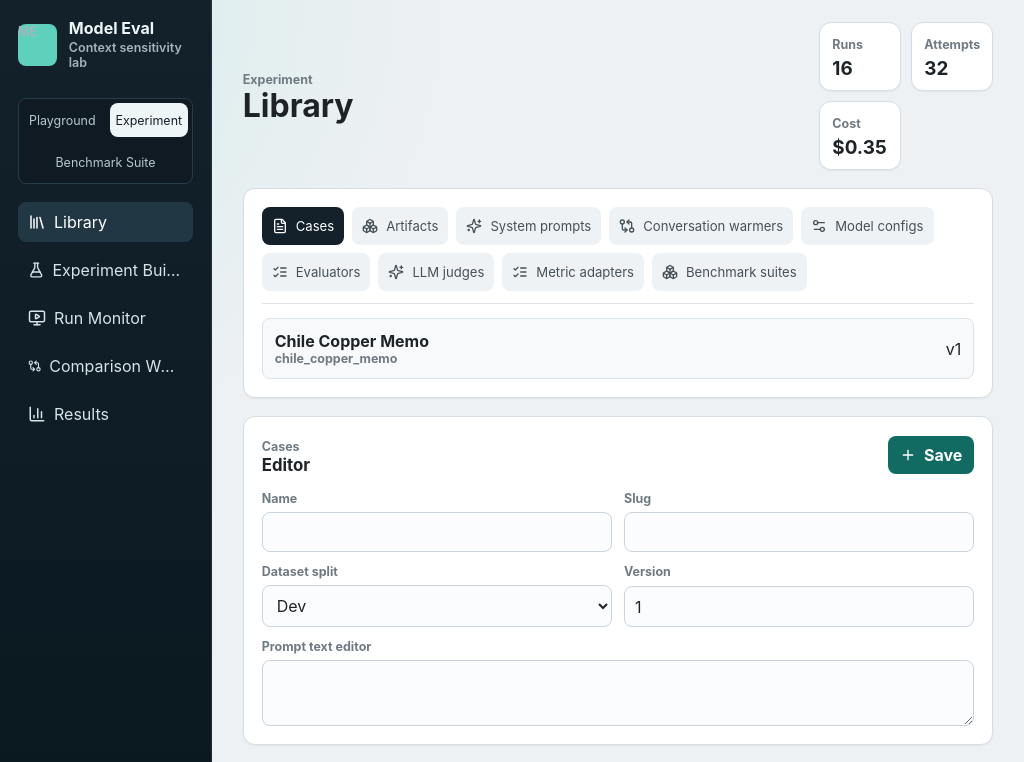
App run monitor › opens an API experiment from the monitor in the review workspace
This screenshot has width=1024, height=762.
Click the button "Run Monitor" at (106, 318), box [18,298,193,338]
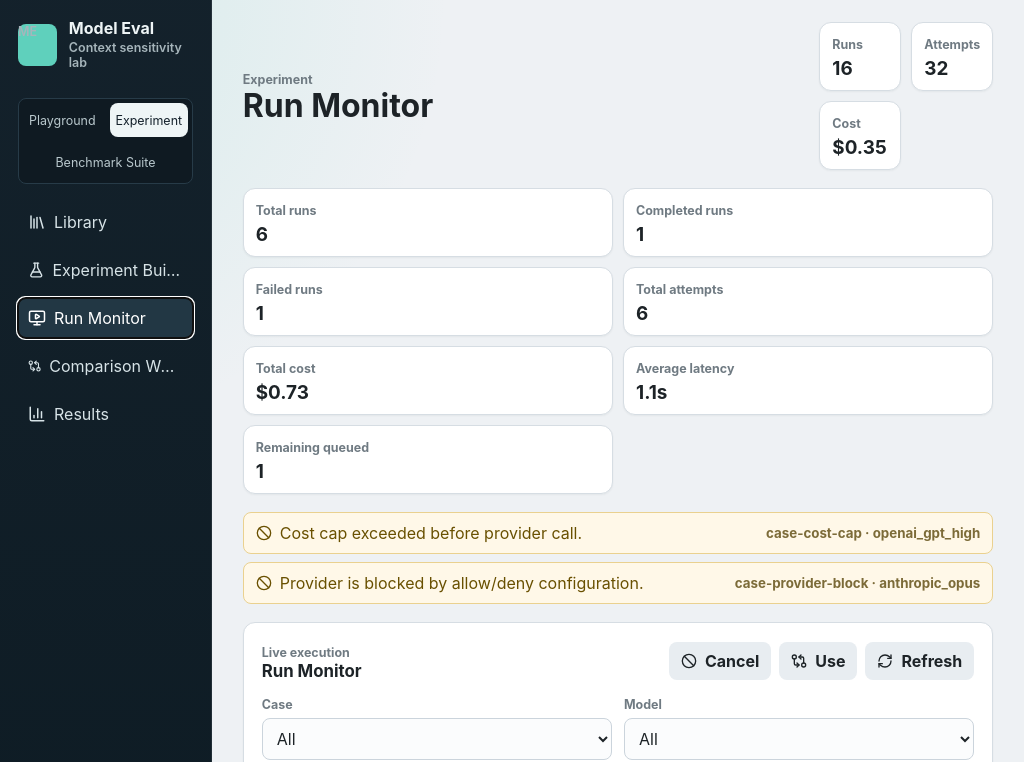
Click the button with aria-label "Use Copper monitor for review and results" at (818, 661), box [779,642,858,680]
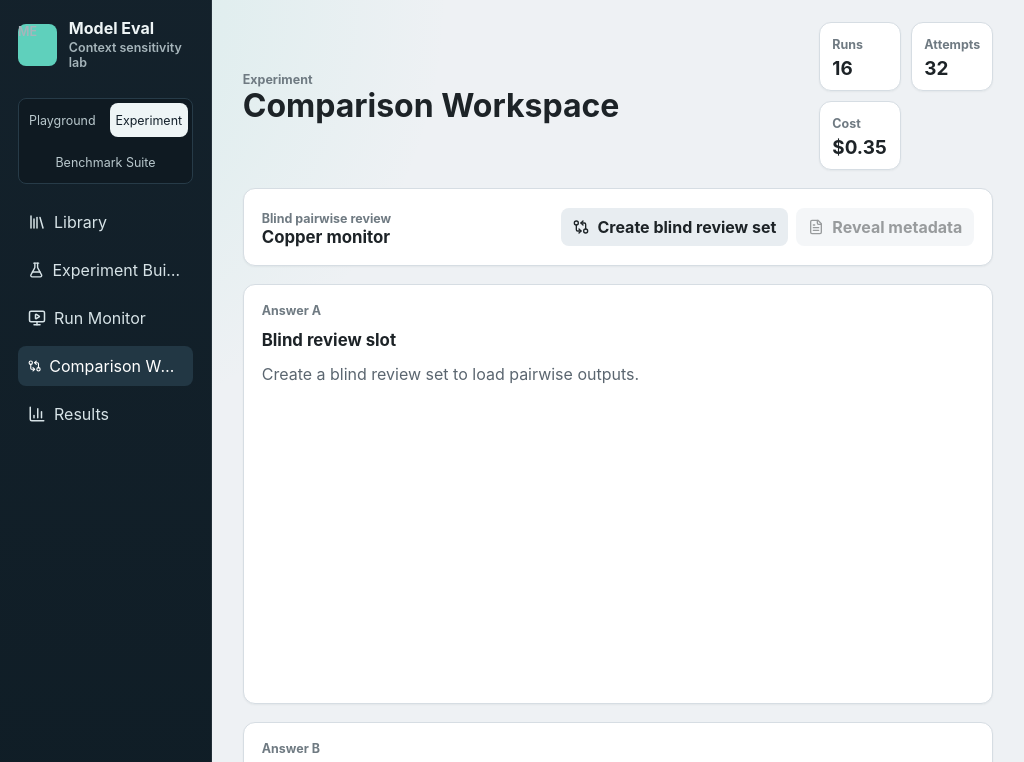
Click the button "Create blind review set" at (675, 227), box [562,208,788,246]
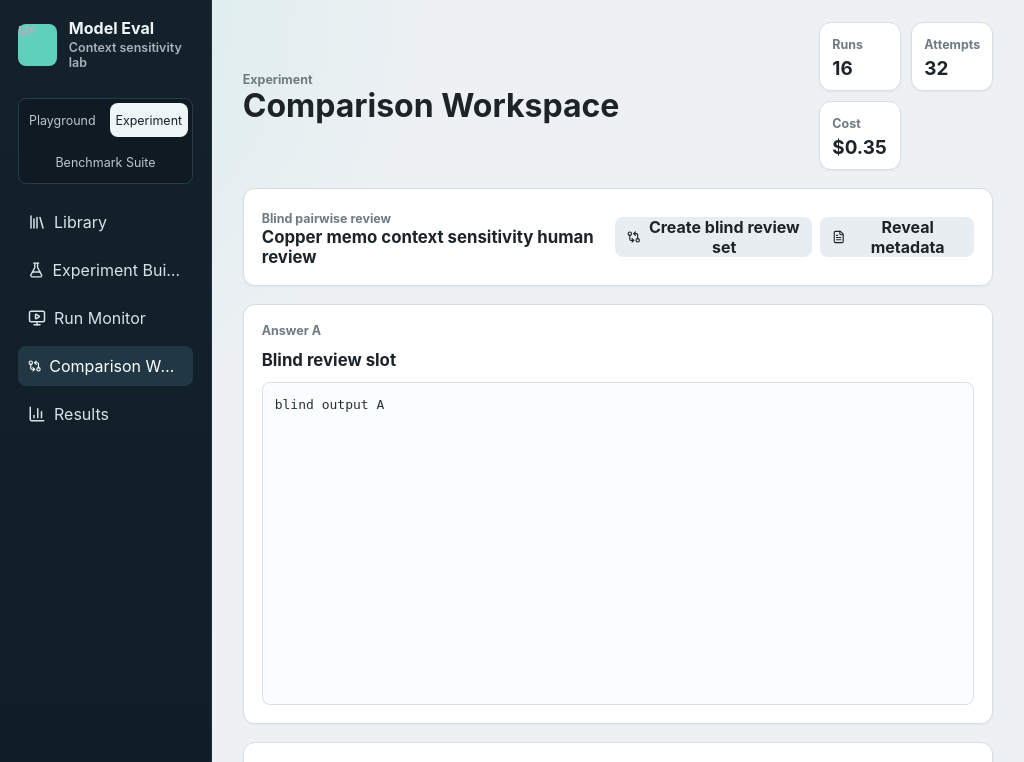
Expected: the text "blind output A" is shown, [262,382,974,705]
